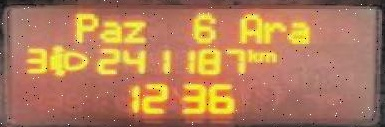1: (155, 46, 173, 75), (181, 47, 195, 75), (127, 83, 138, 114)
2: (140, 81, 166, 114), (93, 46, 118, 75)
3: (176, 80, 205, 115), (23, 45, 47, 75)
4: (118, 46, 147, 73)
6: (206, 81, 235, 114), (188, 11, 217, 44)
7: (221, 45, 245, 75)
8: (195, 46, 221, 75)
X: (235, 11, 260, 45), (72, 10, 97, 44), (260, 17, 285, 45), (120, 19, 146, 44), (285, 20, 310, 45), (96, 19, 120, 43), (257, 49, 277, 63), (245, 46, 256, 62)
